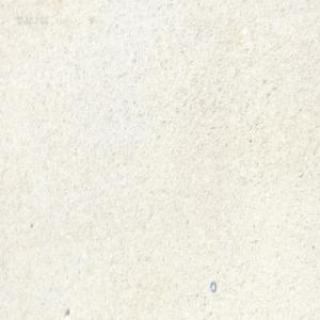Washertrack_idkeyframe: (209, 280, 216, 292)
